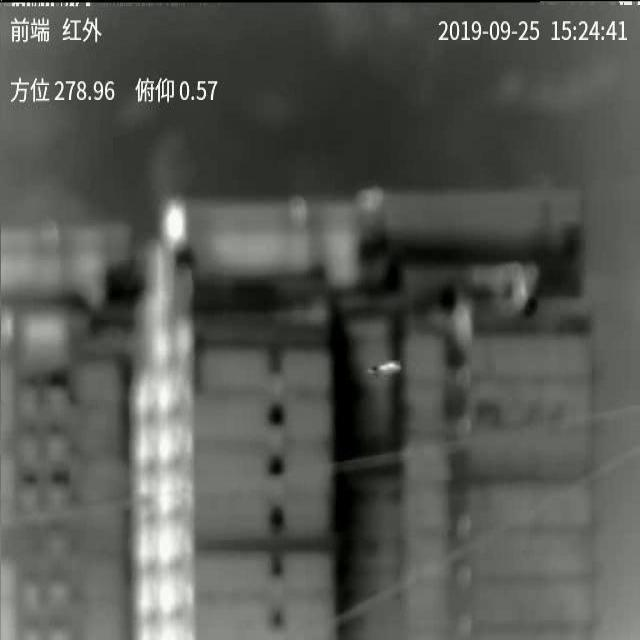drone: (367, 361, 402, 375)
